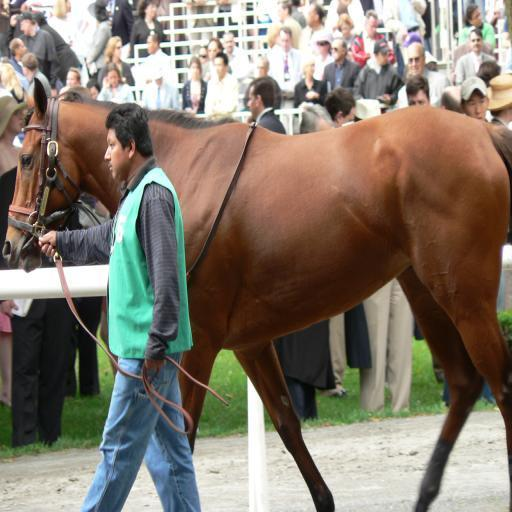horse: (1, 74, 512, 512)
